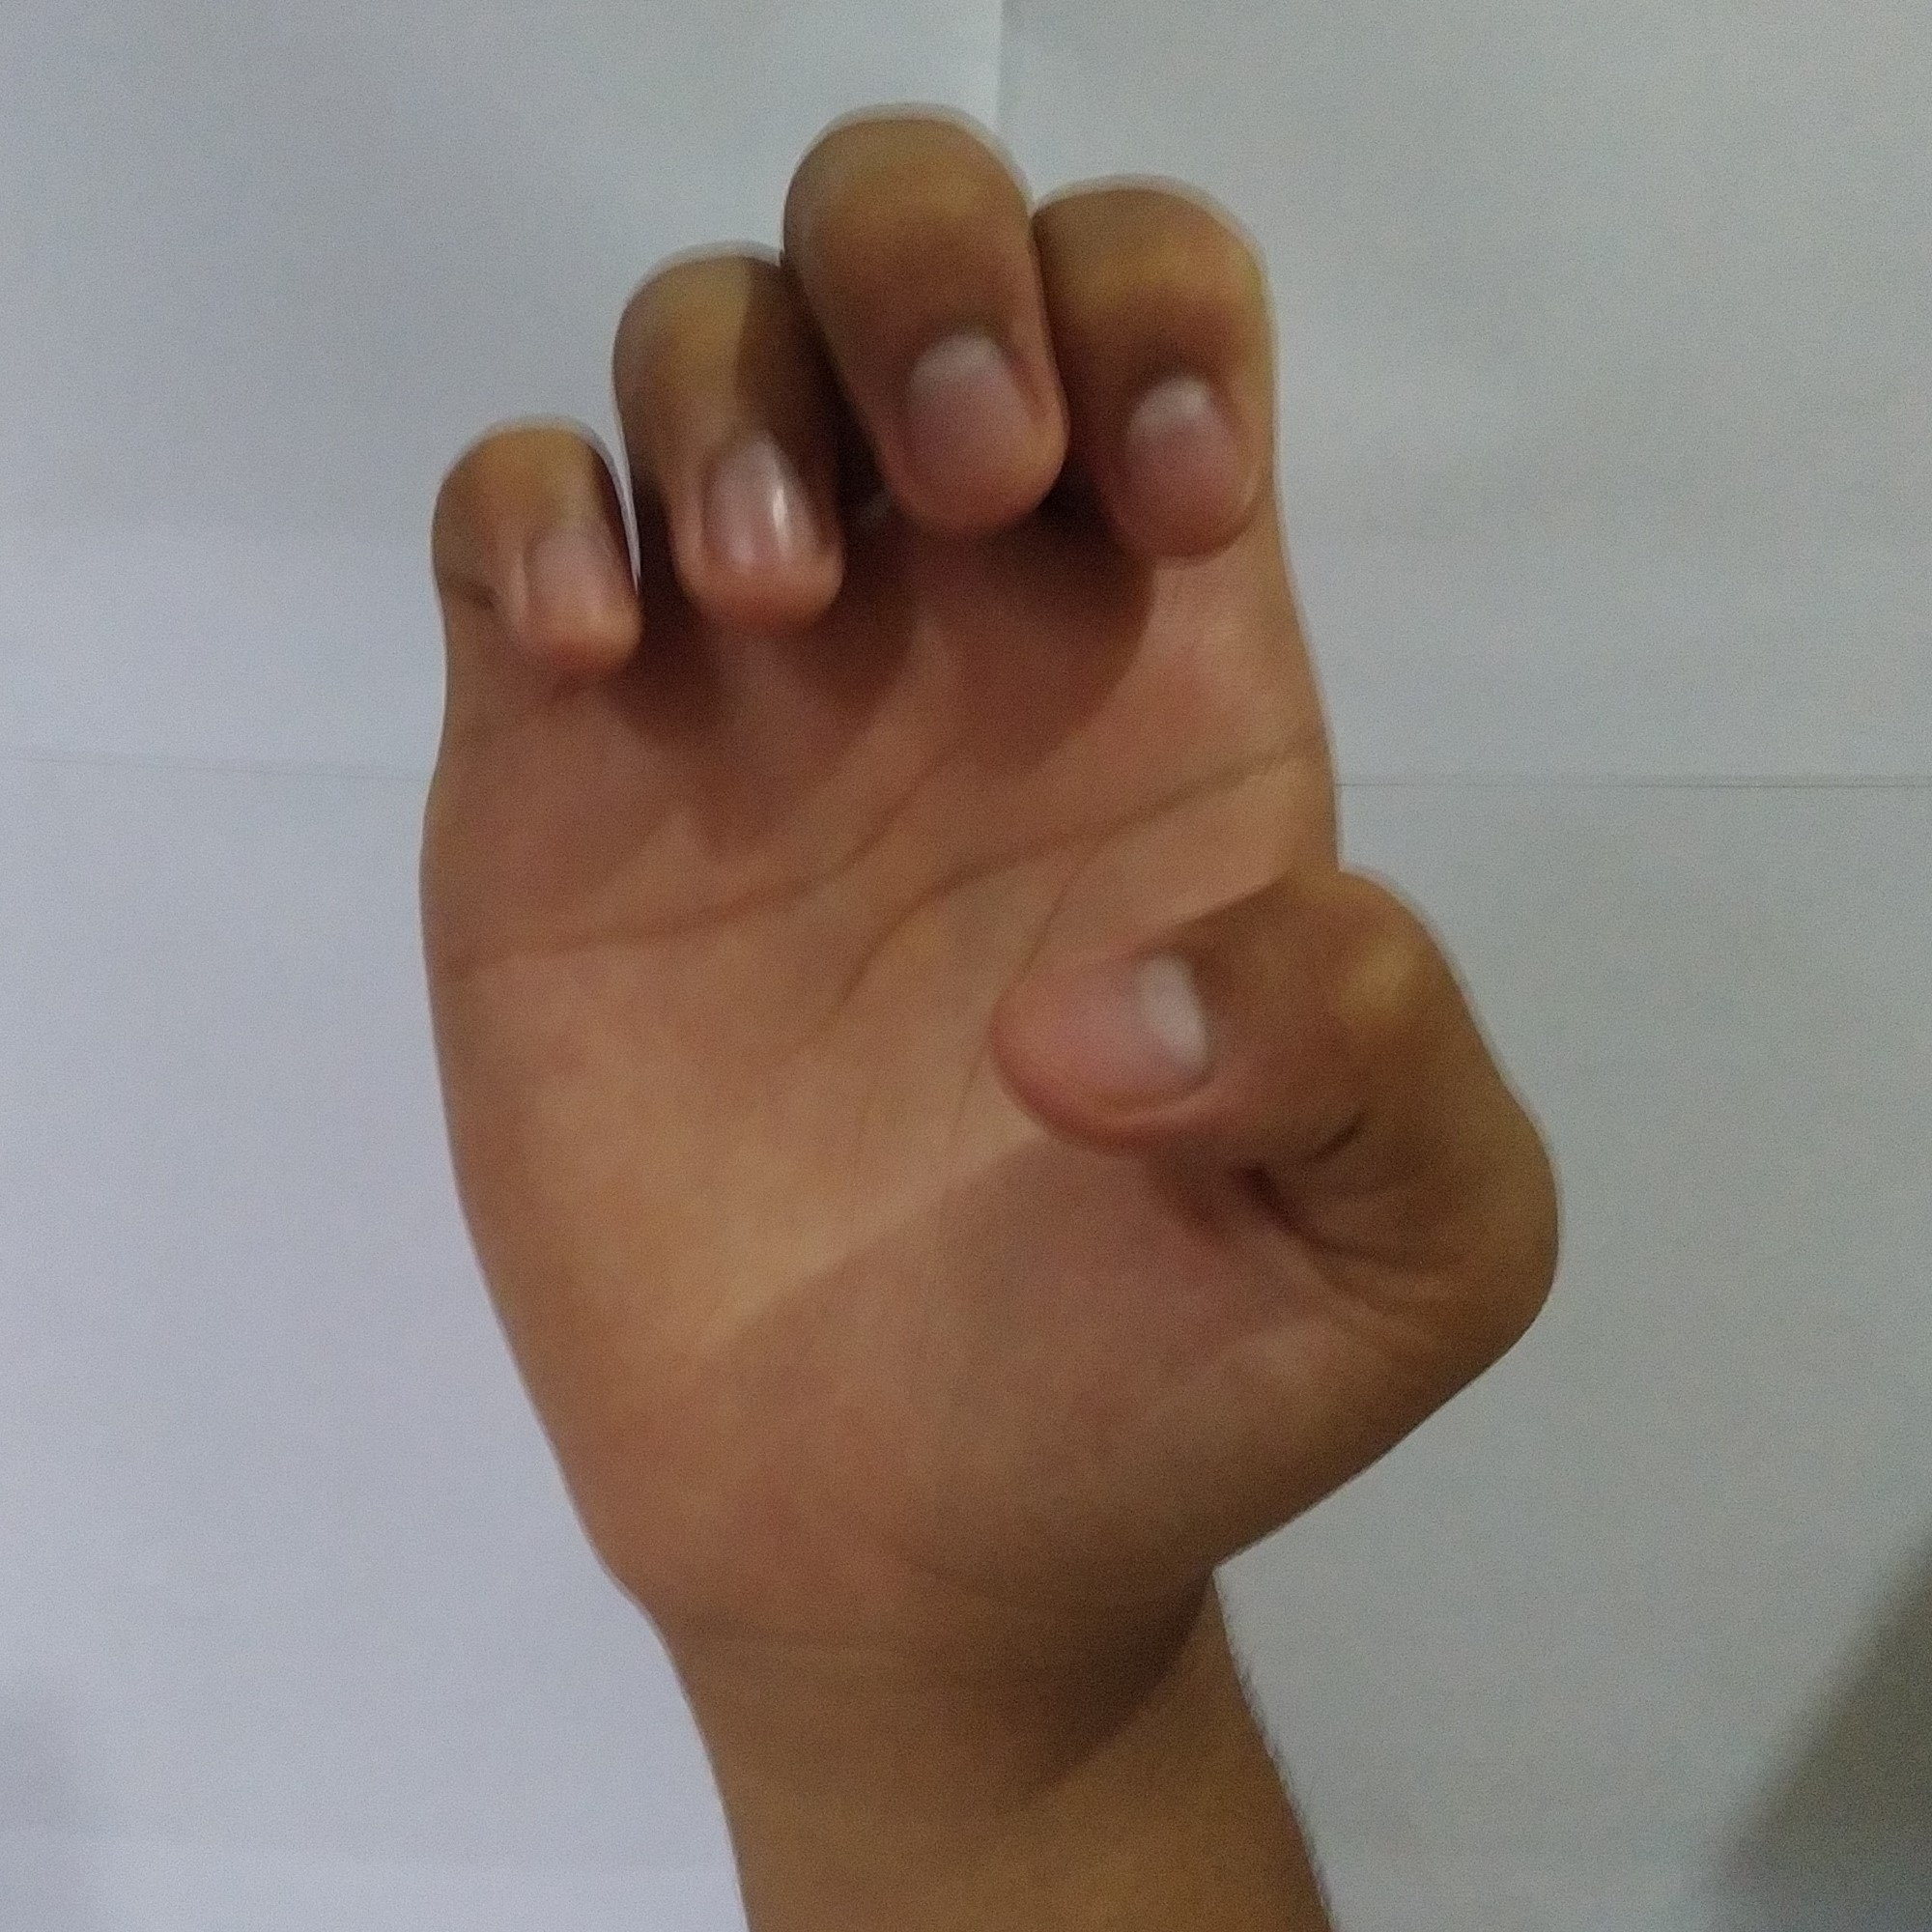E: (382, 80, 1580, 1576)
